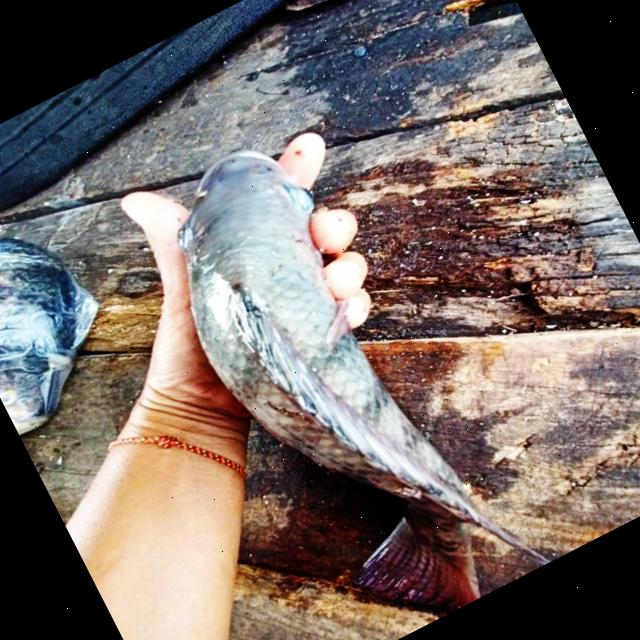Tilapia Lake Virus -TiLV-: (179, 151, 549, 609), (179, 150, 549, 606)
